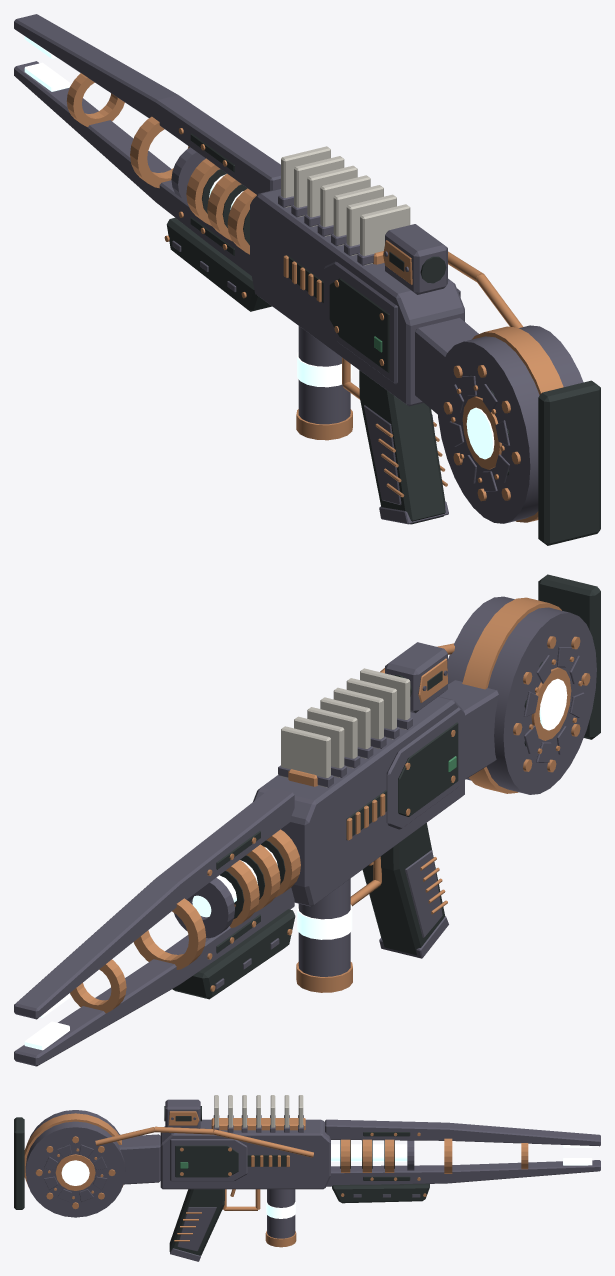
Rendered from laser_1.glb.
3 views of the same model, one above another, from view 1: azimuth 30°, elevation 25°; view 2: azimuth 150°, elevation 25°; view 3: azimuth 270°, elevation 25° (orthographic). The views are drawn at different scales.
Parts seen in each view (by area): view 1: Weapon_laser_v1; view 2: Weapon_laser_v1; view 3: Weapon_laser_v1.
Part boxes in pixels (left/top/right/bottom): Weapon_laser_v1: left=14, top=14, right=600, bottom=545; Weapon_laser_v1: left=14, top=574, right=600, bottom=1066; Weapon_laser_v1: left=14, top=1095, right=600, bottom=1261.
Bounding box in the file's own units: 0.087 × 0.2927 × 1.
